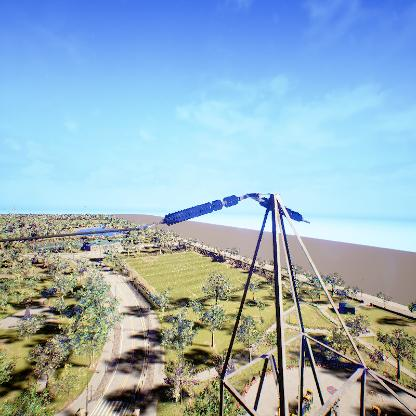insulator: (163, 195, 241, 227)
